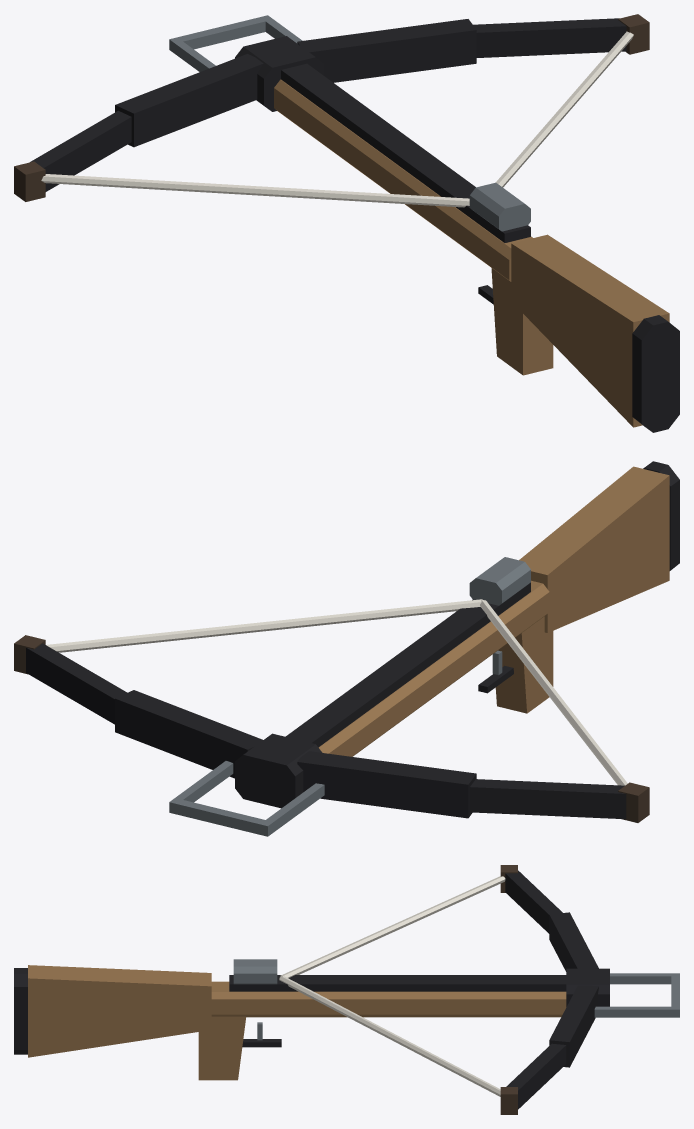
The model's file is crossbow.glb.
3 views of the same model, one above another, from view 1: azimuth 30°, elevation 25°; view 2: azimuth 150°, elevation 25°; view 3: azimuth 270°, elevation 25° (orthographic). The views are drawn at different scales.
Parts seen in each view (by area): view 1: crossbow; view 2: crossbow; view 3: crossbow.
Part boxes in pixels (bbox=[...]): crossbow: bbox=[14, 14, 679, 432]; crossbow: bbox=[14, 461, 679, 836]; crossbow: bbox=[14, 865, 679, 1114].
Size of the model in its own units: 0.62 by 0.141 by 0.761.
1 material, 1 textured.
